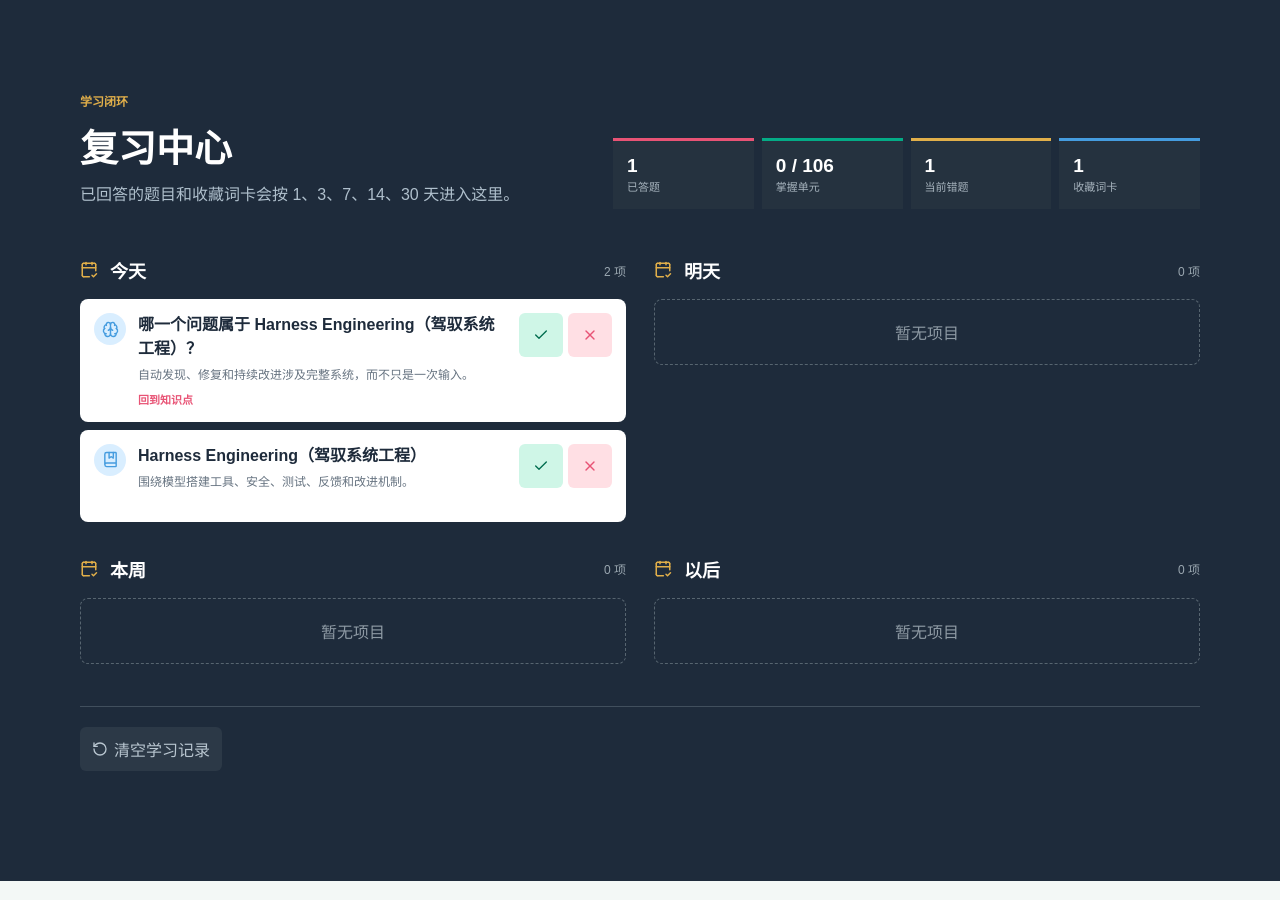
Test: ReviewCenter › shows mistakes and favorite terms in the due review group
Expected: the text "哪一个问题属于 Harness Engineering（驾驭系统工程）？" is shown, [138,316,494,357]
Expected: the text "Harness Engineering（驾驭系统工程）" is shown, [138,447,426,464]
Click the button "清空学习记录".
click(151, 749)  # box [80,727,222,771]
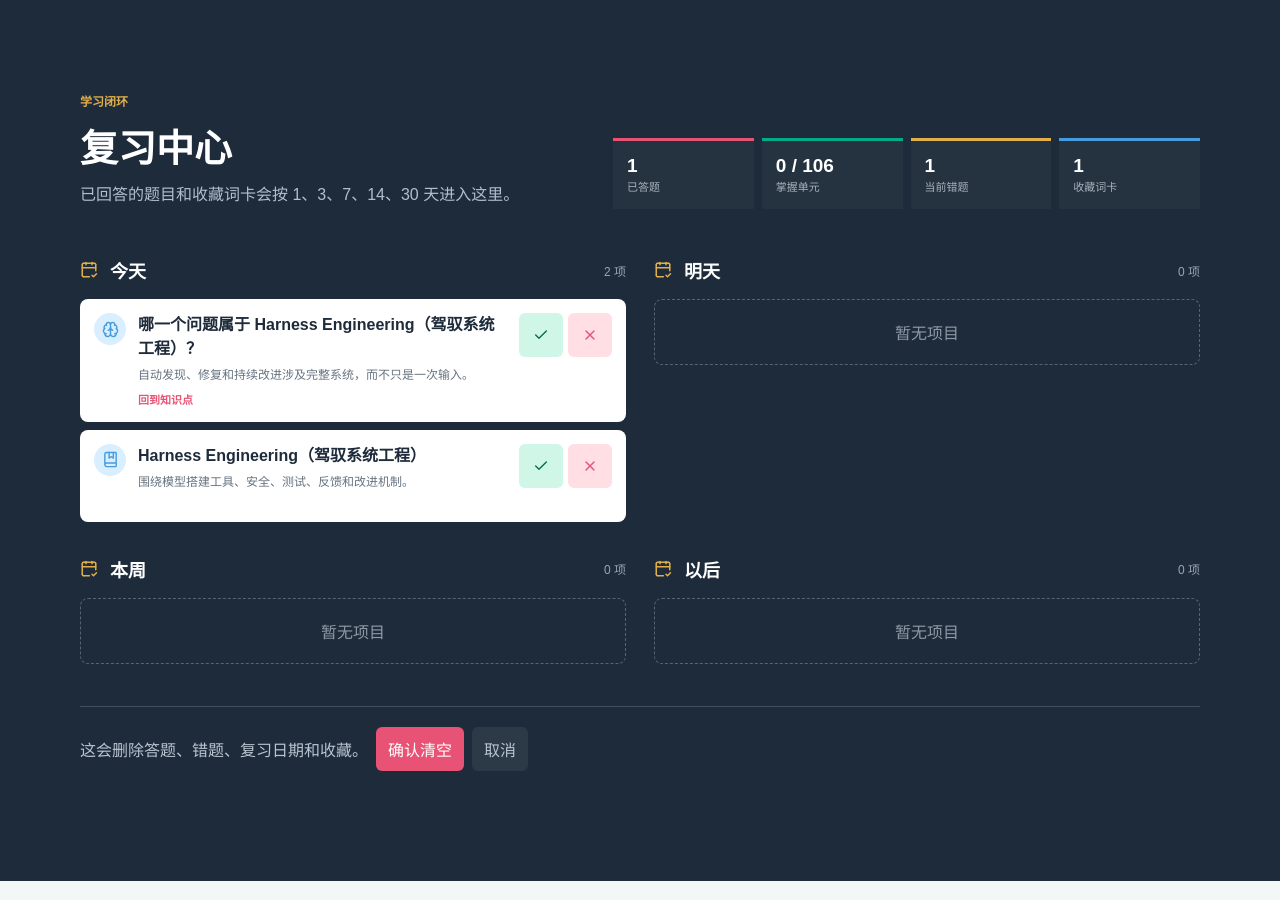
Result: the button "确认清空" is shown at [376,727,464,771]
